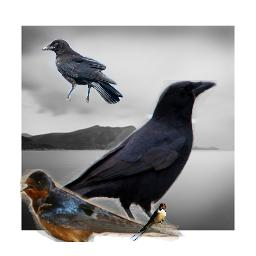Crow: (28, 80, 217, 237), (41, 39, 123, 104)
Swallow: (20, 169, 179, 242), (130, 203, 166, 241)
